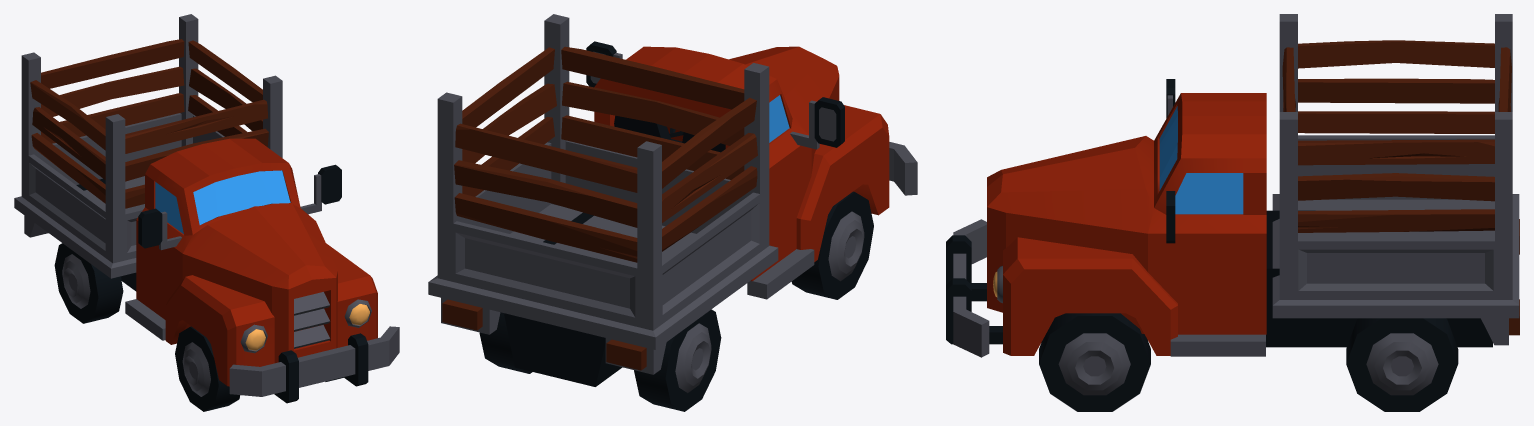
File: Truck_2.fbx
3 renders of one model, left to right at view 1: azimuth 30°, elevation 25°; view 2: azimuth 150°, elevation 25°; view 3: azimuth 270°, elevation 25°, orthographic. The views are drawn at different scales.
Parts seen in each view (by area): view 1: Truck_2; view 2: Truck_2; view 3: Truck_2.
Part boxes in pixels (x1=…): Truck_2: x1=14, y1=14, x2=399, y2=411; Truck_2: x1=428, y1=14, x2=917, y2=411; Truck_2: x1=946, y1=14, x2=1519, y2=411.
Bounding box in the file's own units: 81.7 × 91.53 × 159.
